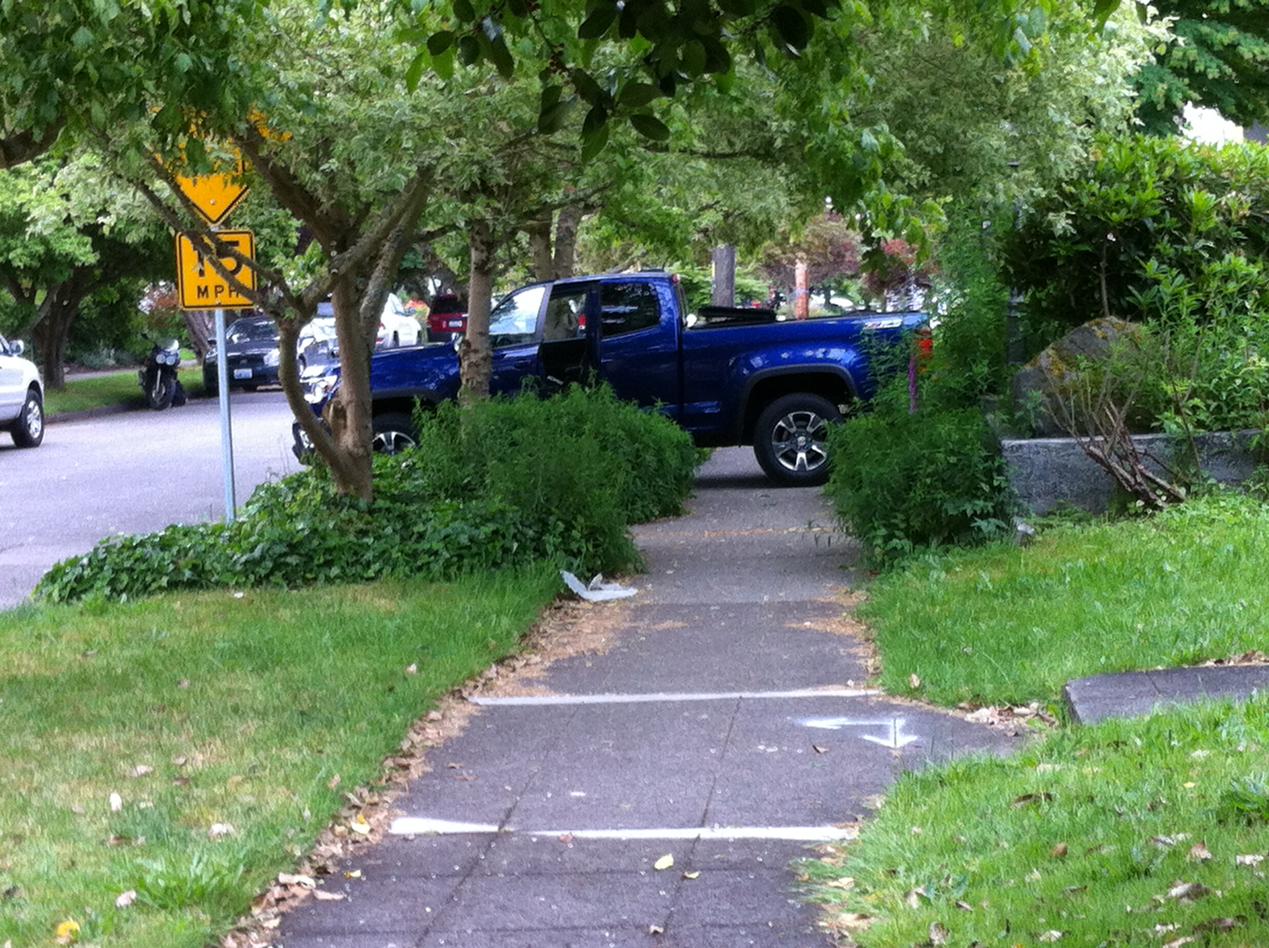Car: (302, 272, 945, 498)
